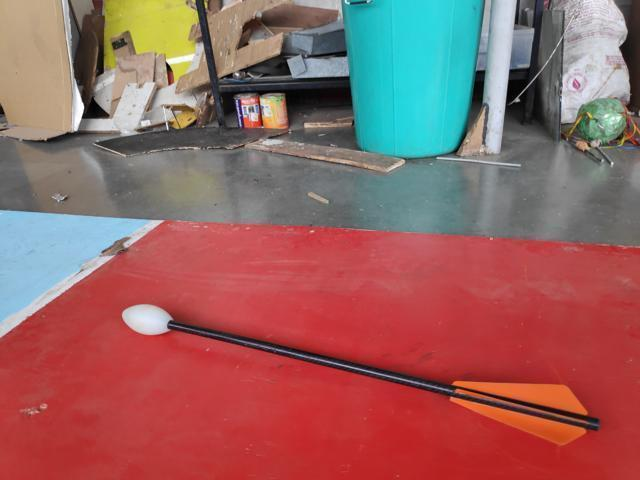Head: (118, 302, 175, 337)
Tail: (441, 374, 603, 448)
